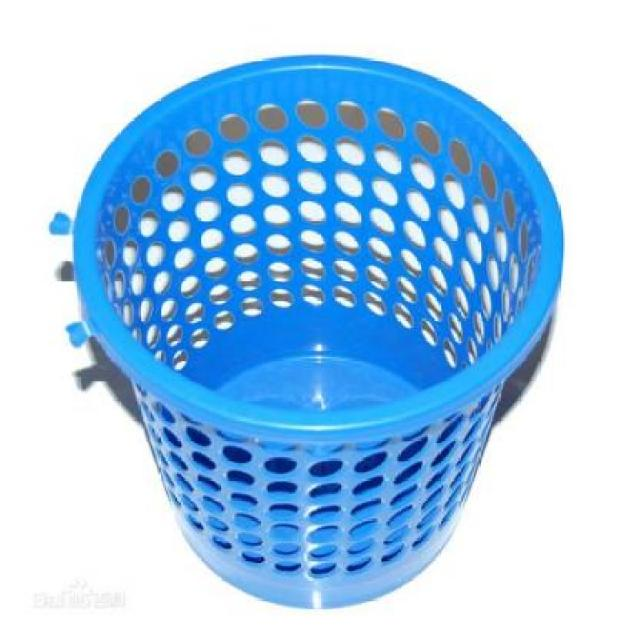dustbin: (45, 49, 570, 611)
